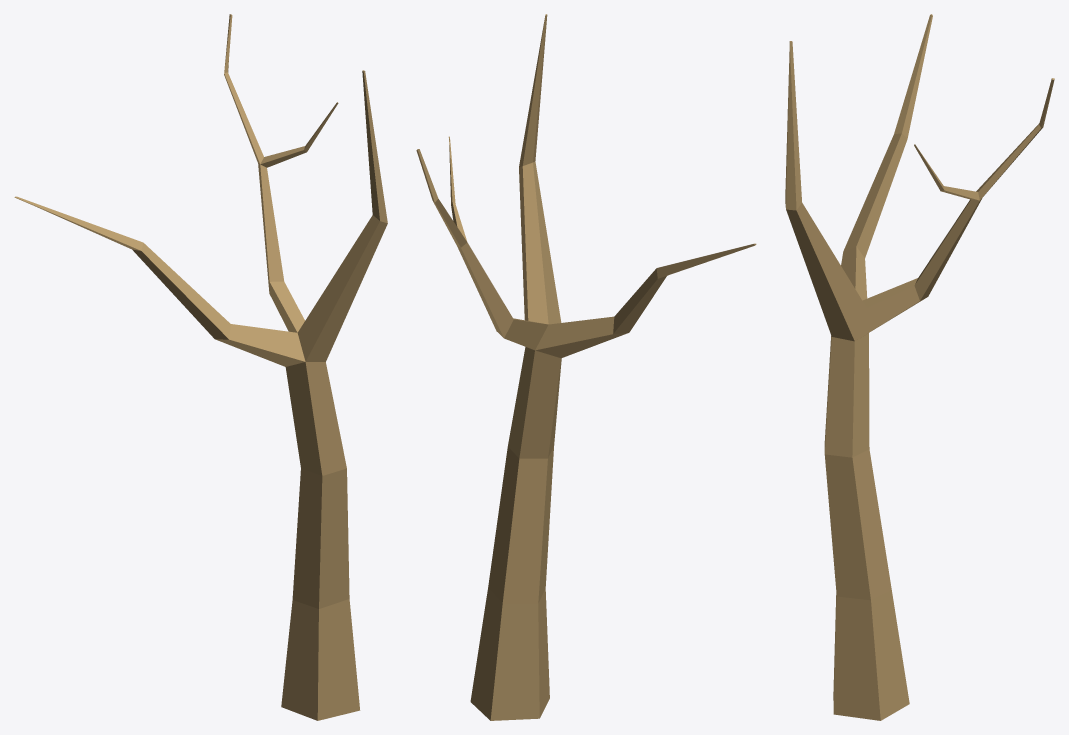
Rendered from Apple_Tree_NoLeaves_m_03_LOD.fbx.
The picture shows the model from 3 angles, left to right: view 1: azimuth 30°, elevation 25°; view 2: azimuth 150°, elevation 25°; view 3: azimuth 270°, elevation 25°; orthographic projection.
Visible parts, largest first — view 1: Apple_Tree_NoLeaves_m_03_LOD0; view 2: Apple_Tree_NoLeaves_m_03_LOD0; view 3: Apple_Tree_NoLeaves_m_03_LOD0.
Part boxes in pixels (x1,y1,x2,y2): Apple_Tree_NoLeaves_m_03_LOD0: (14,14,387,720); Apple_Tree_NoLeaves_m_03_LOD0: (416,14,756,720); Apple_Tree_NoLeaves_m_03_LOD0: (785,14,1054,720).
Size of what is drawn, in the model's own units: 250 by 499 by 184.
